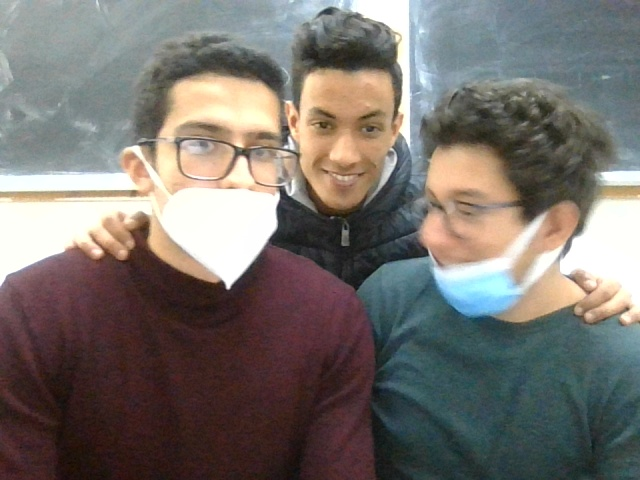mask_weared_incorrect: (140, 36, 294, 295)
without_mask: (290, 11, 424, 206)
